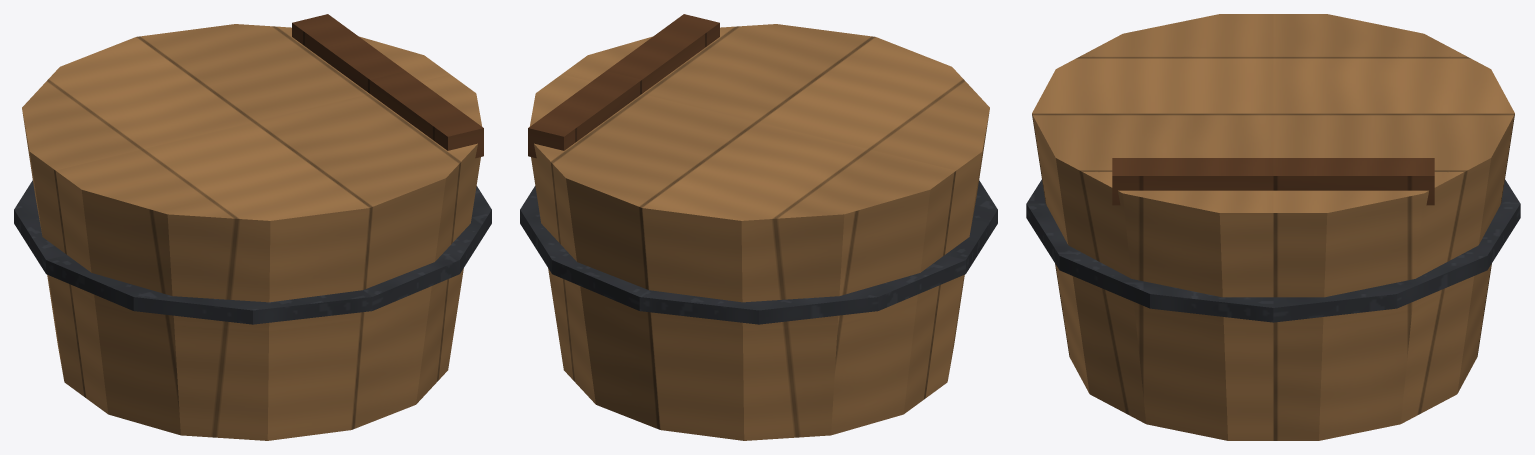
File: balia.glb
3 views of the same model, side by side, from view 1: azimuth 30°, elevation 25°; view 2: azimuth 150°, elevation 25°; view 3: azimuth 270°, elevation 25° (orthographic). The views are drawn at different scales.
Parts seen in each view (by area): view 1: balia; view 2: balia; view 3: balia.
Part boxes in pixels (x1=…): balia: x1=14, y1=14, x2=491, y2=440; balia: x1=520, y1=14, x2=997, y2=440; balia: x1=1026, y1=14, x2=1520, y2=440.
Size of the model in its own units: 0.92 by 0.53 by 0.92.
Materials: 4 (3 with a texture image).
